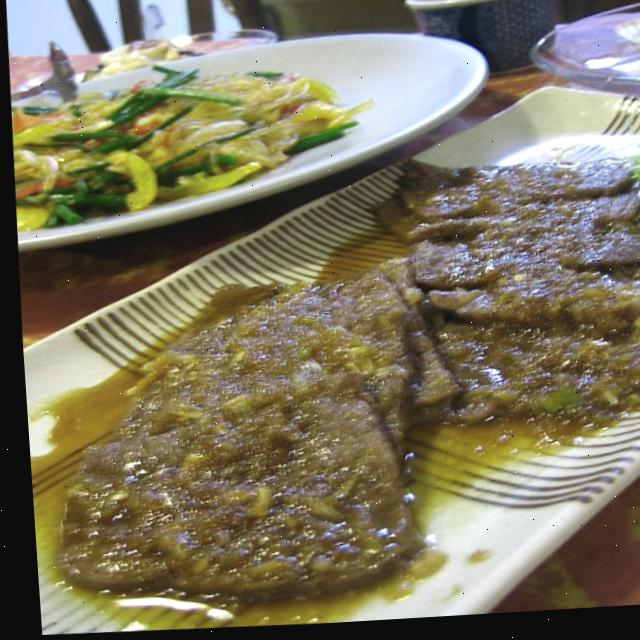鸡蛋料理: (10, 175, 309, 501)
